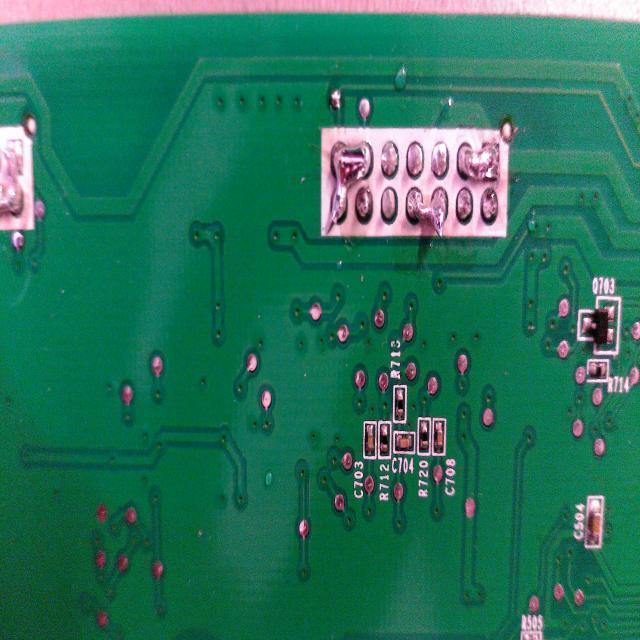Soldering shorted: (327, 141, 372, 237), (404, 182, 448, 245), (0, 144, 35, 220), (454, 134, 501, 187)
